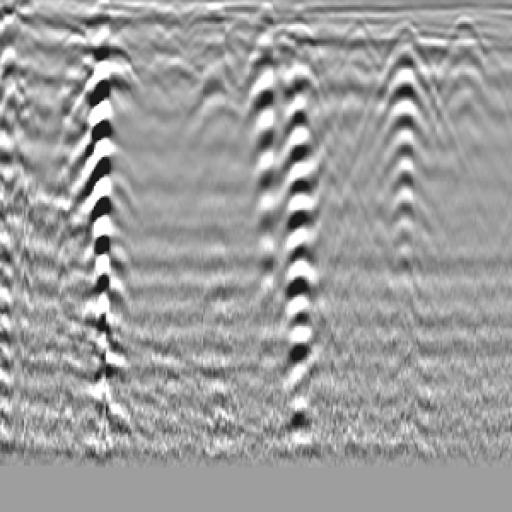metalic: (161, 56, 253, 206)
